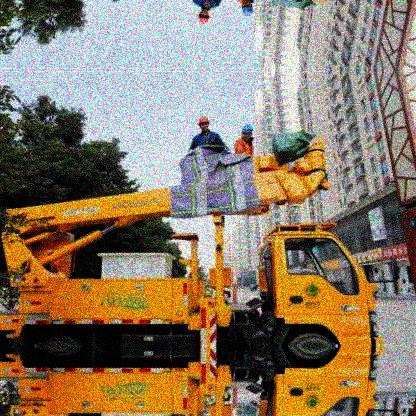helmet: (239, 1, 255, 17), (241, 123, 255, 141), (198, 9, 212, 26), (198, 116, 209, 131)
